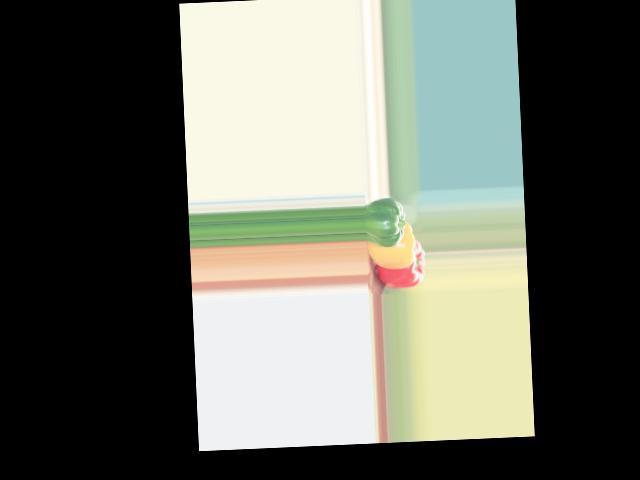bell_pepper: (368, 239, 425, 289)
